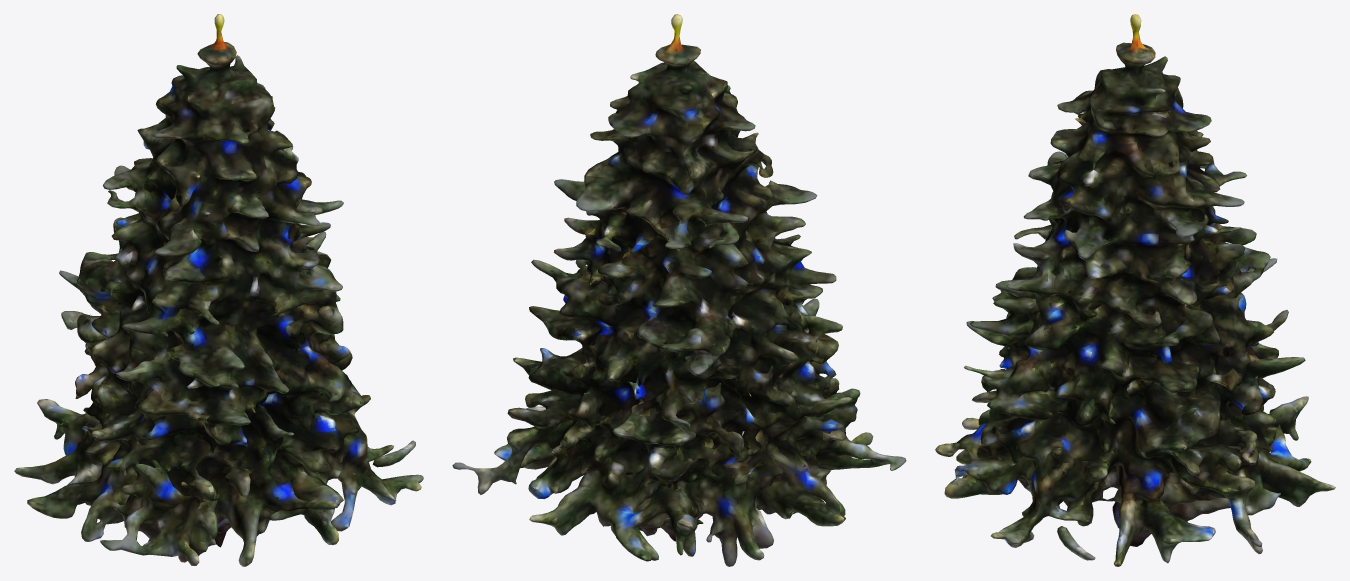
The model's file is prop-christmas-tree.glb.
The picture shows the model from 3 angles, left to right: view 1: azimuth 30°, elevation 25°; view 2: azimuth 150°, elevation 25°; view 3: azimuth 270°, elevation 25°; orthographic projection.
Parts seen in each view (by area): view 1: model_0; view 2: model_0; view 3: model_0.
Boxes of the visible parts, box(x1,y1,x2,y2) form: model_0: box(14, 14, 423, 566); model_0: box(452, 14, 906, 566); model_0: box(935, 14, 1335, 566).
Size of the model in its own units: 1.25 by 1.78 by 1.21.
1 material, 1 textured.
